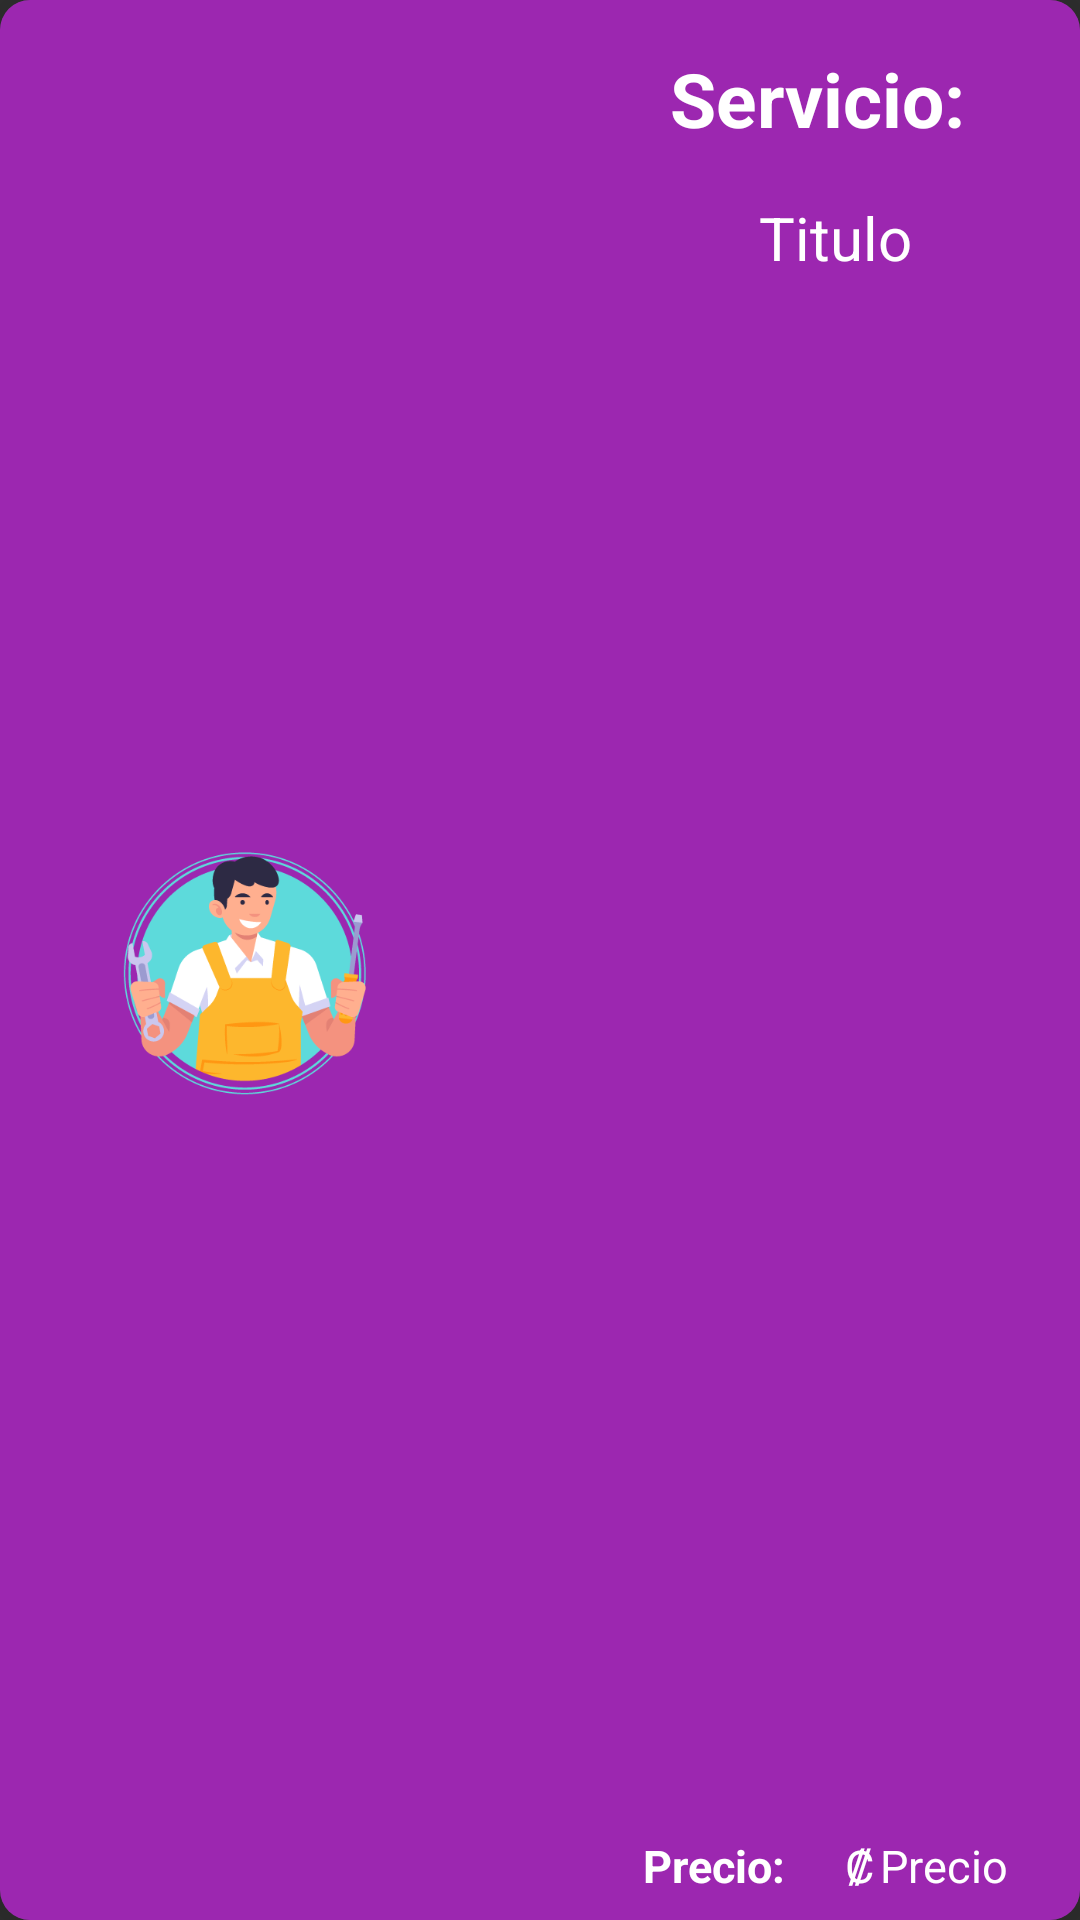

Screen size 1080px×1920px. Icon name, then its center in pixels as (x=x, y=y):
trabajador: (x=245, y=973)
